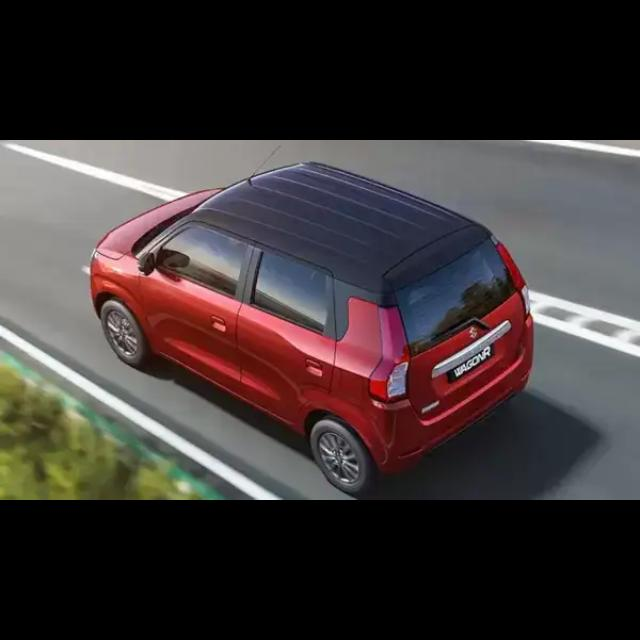number-plate: (446, 344, 493, 382)
vehicles: (94, 162, 526, 492)
